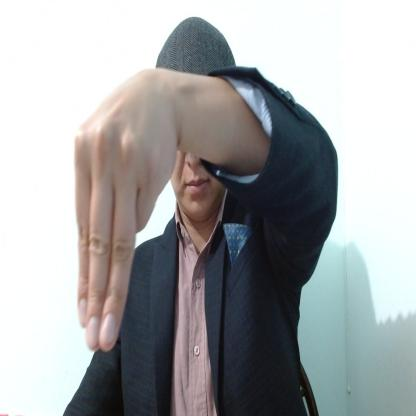M: (74, 67, 176, 354)
